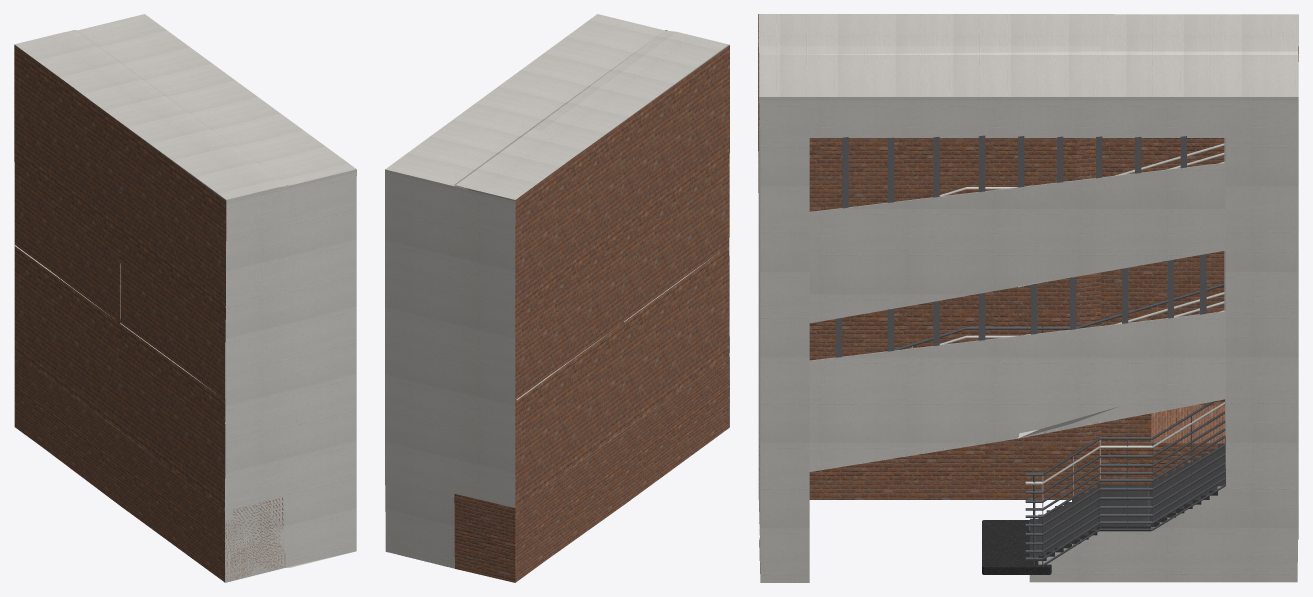
The model's file is Escaleras.fbx.
3 views of the same model, side by side, from view 1: azimuth 30°, elevation 25°; view 2: azimuth 150°, elevation 25°; view 3: azimuth 270°, elevation 25° (orthographic). The views are drawn at different scales.
Visible parts, largest first — view 1: Paredes.002; view 2: Paredes.002; view 3: Paredes.002.
Boxes of the visible parts, x1,y1,x2,y2 form: Paredes.002: [14, 14, 356, 582]; Paredes.002: [385, 14, 729, 582]; Paredes.002: [758, 14, 1298, 582].
Size of the model in its own units: 557 by 1484 by 1491.
Materials: 6 (5 with a texture image).
